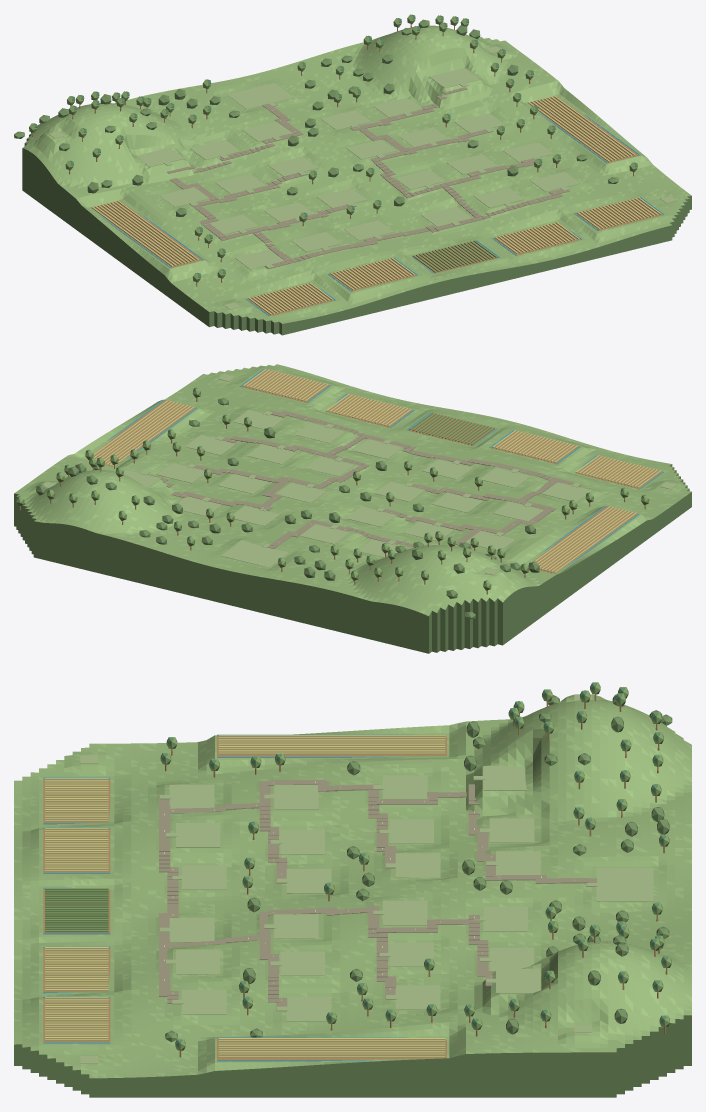
File: ground.glb
3 renders of one model, top to bottom at view 1: azimuth 30°, elevation 25°; view 2: azimuth 150°, elevation 25°; view 3: azimuth 270°, elevation 25°, orthographic. The views are drawn at different scales.
Parts seen in each view (by area): view 1: planet_agrar__Terrain, planet_agrar__Roads, planet_agrar__Decoration; view 2: planet_agrar__Terrain, planet_agrar__Decoration, planet_agrar__Roads; view 3: planet_agrar__Terrain, planet_agrar__Roads, planet_agrar__Decoration.
Boxes of the visible parts, x1,y1,x2,y2 form: planet_agrar__Terrain: (22,25,691,335); planet_agrar__Roads: (49,46,677,309); planet_agrar__Decoration: (14,14,664,316); planet_agrar__Terrain: (14,364,691,653); planet_agrar__Decoration: (16,369,663,619); planet_agrar__Roads: (43,374,676,575); planet_agrar__Terrain: (14,694,691,1097); planet_agrar__Roads: (80,694,653,1063); planet_agrar__Decoration: (43,682,672,1061).
Bounding box in the file's own units: 188 × 30.95 × 162.
